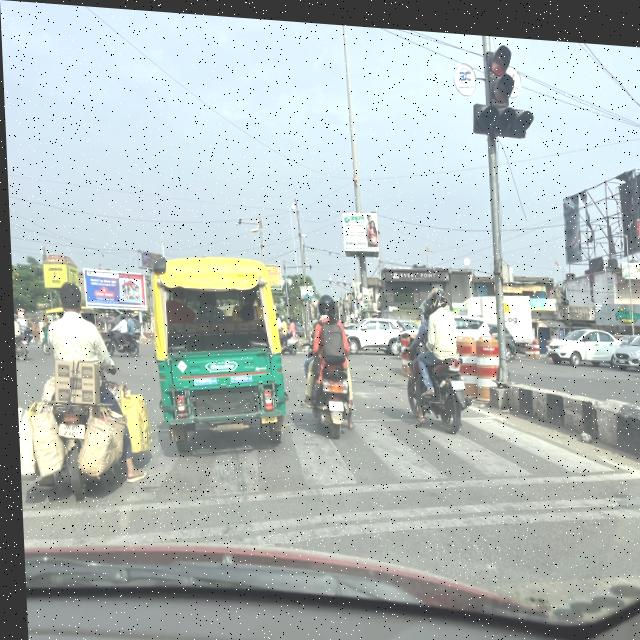bike: (297, 336, 362, 446), (400, 341, 464, 443)
car: (538, 310, 615, 369), (346, 308, 402, 355), (610, 319, 640, 370), (102, 323, 137, 357), (455, 301, 488, 336), (13, 333, 26, 363)
